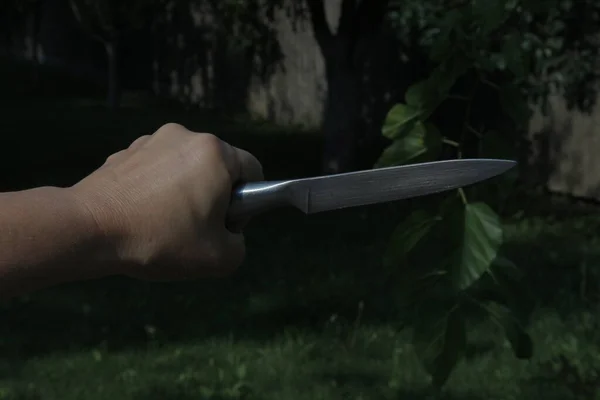knife: (104, 124, 538, 274)
